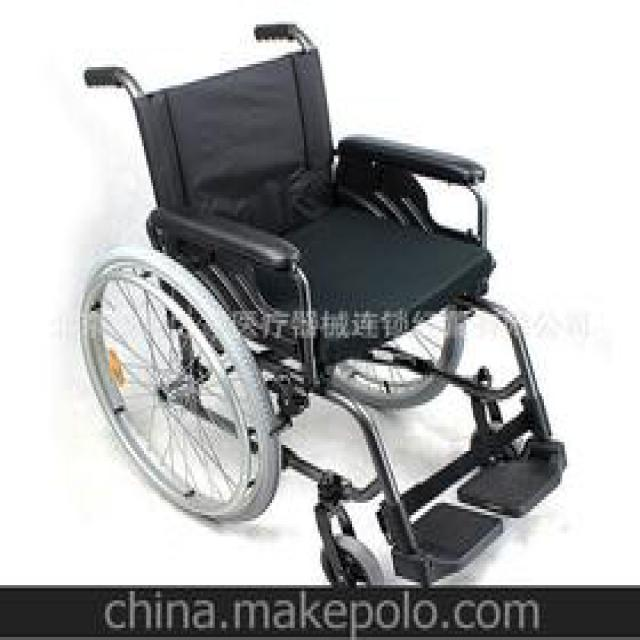wheelchair: (41, 6, 601, 570)
